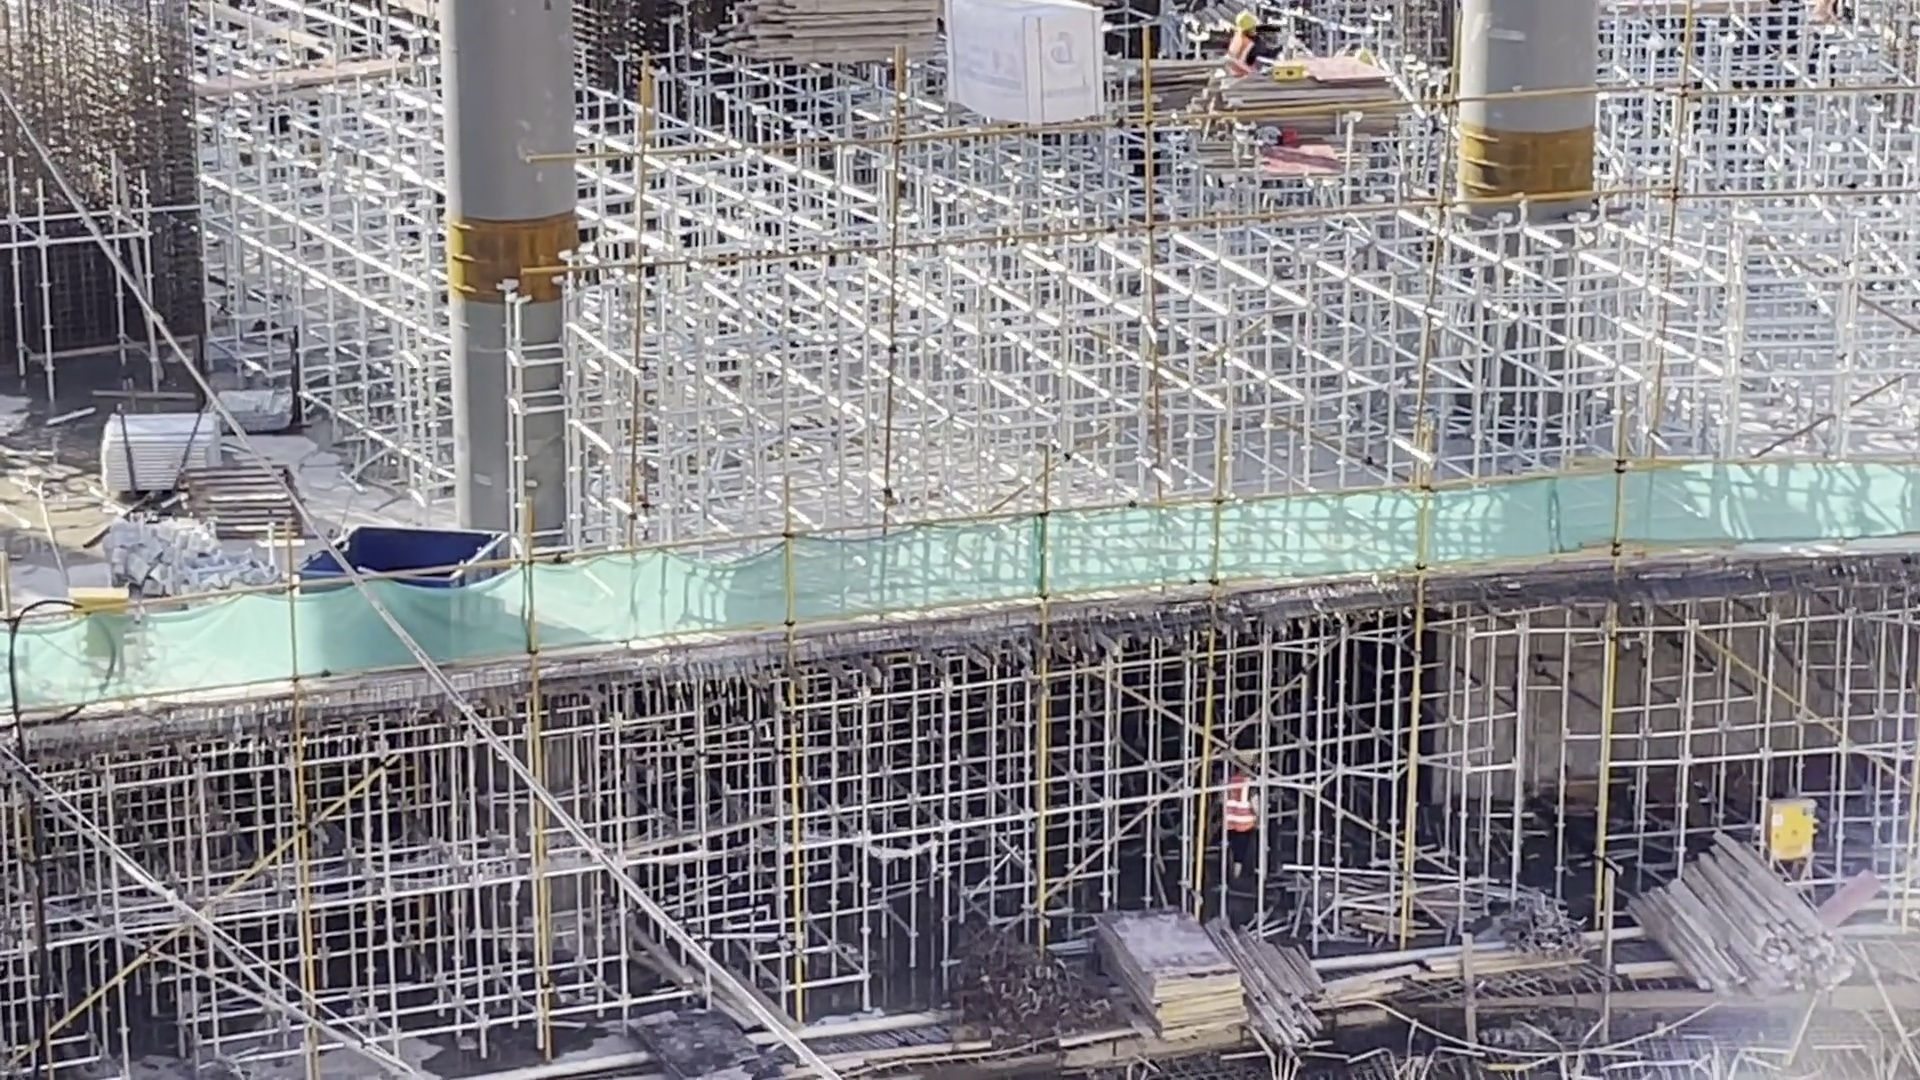board: (1095, 902, 1254, 1048), (1207, 50, 1414, 139)
ebox: (1755, 793, 1821, 871), (59, 583, 139, 604)
helmet: (1234, 13, 1263, 34)
hopper: (278, 519, 519, 565)
person: (1226, 787, 1259, 889), (1225, 11, 1265, 79)
scaffold: (97, 412, 222, 468)
vest: (1228, 37, 1255, 79)
wood: (1623, 828, 1866, 1000), (712, 4, 944, 65), (1256, 927, 1326, 1052)
